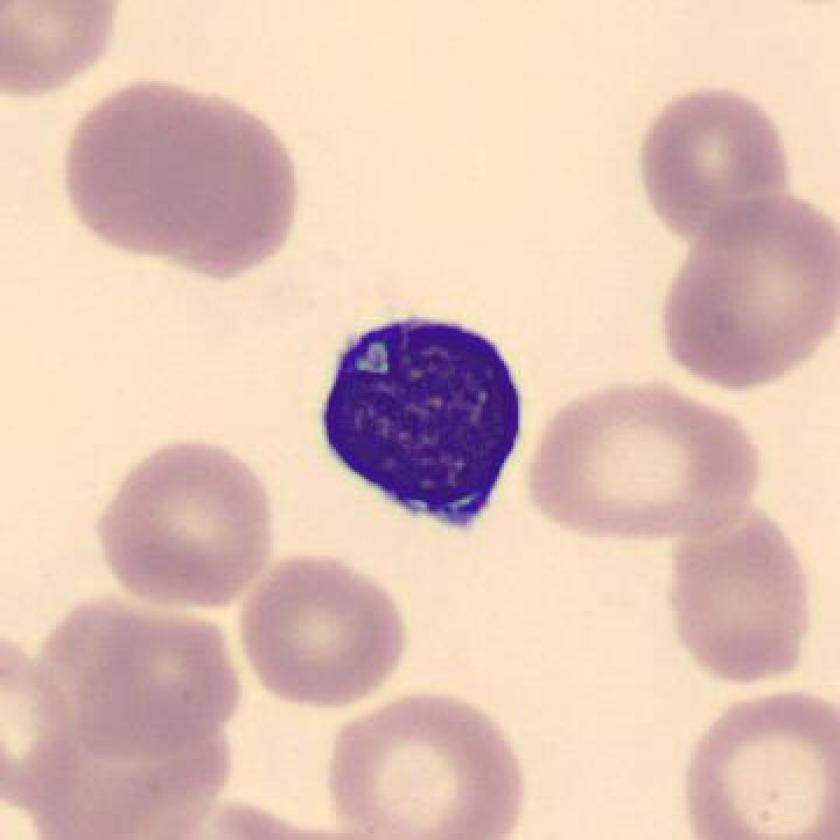lymphocyte: (304, 304, 545, 547)
